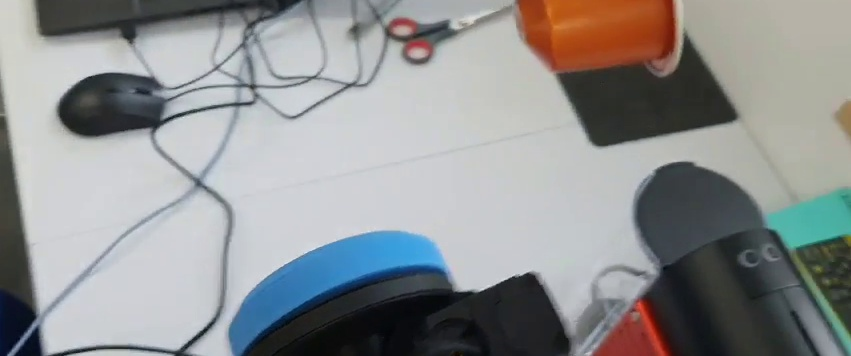capsule_5: (515, 1, 690, 88)
